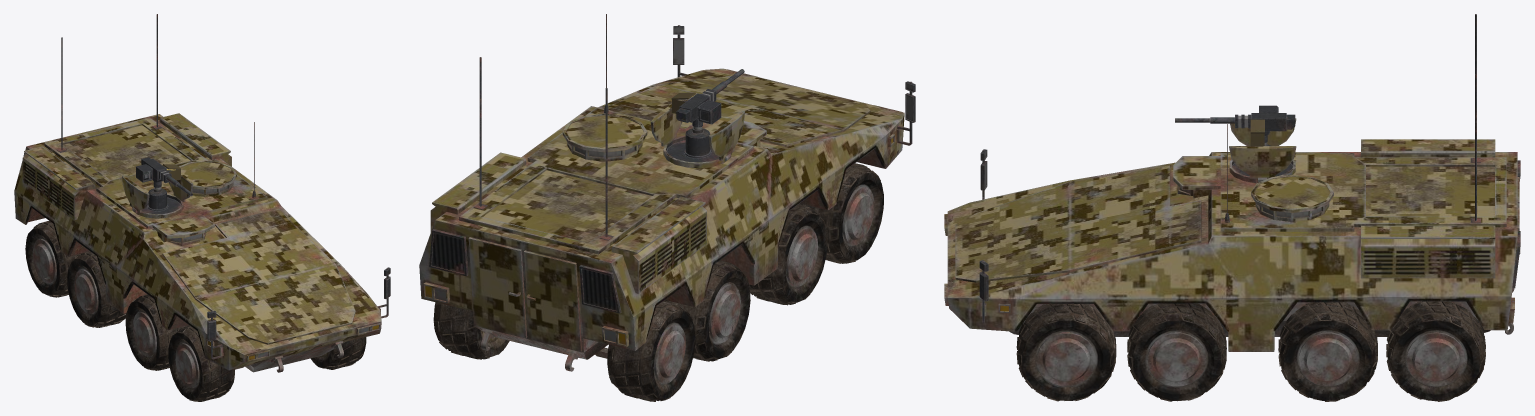
The model's file is apc.glb.
3 renders of one model, left to right at view 1: azimuth 30°, elevation 25°; view 2: azimuth 150°, elevation 25°; view 3: azimuth 270°, elevation 25°, orthographic. The views are drawn at different scales.
Parts seen in each view (by area): view 1: ifv_vfertig; view 2: ifv_vfertig; view 3: ifv_vfertig.
Boxes of the visible parts, x1,y1,x2,y2 form: ifv_vfertig: (14,14,390,401); ifv_vfertig: (419,14,915,401); ifv_vfertig: (944,14,1520,401).
Bounding box in the file's own units: 415 × 519 × 874.
1 material, 1 textured.
